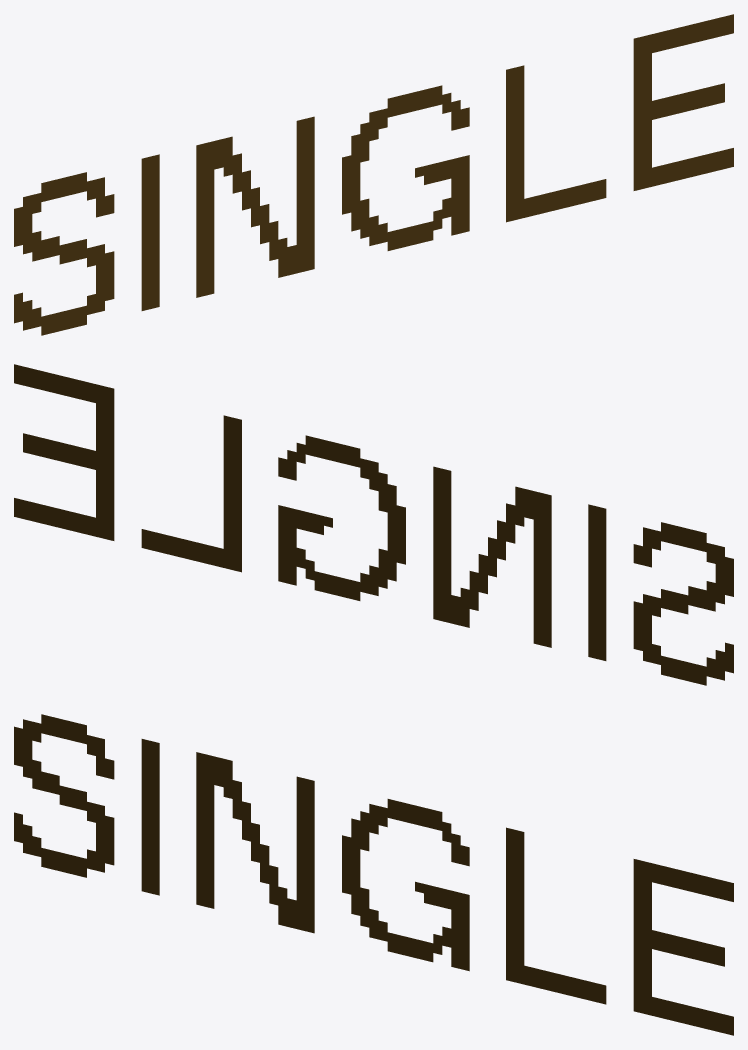
Rendered from result_single.obj.
The picture shows the model from 3 angles, top to bottom: view 1: azimuth 30°, elevation 25°; view 2: azimuth 150°, elevation 25°; view 3: azimuth 330°, elevation 25°; orthographic projection.
Visible parts, largest first — view 1: board_text; view 2: board_text; view 3: board_text.
Part boxes in pixels (x1,y1,x2,y2): board_text: [14, 14, 733, 335]; board_text: [14, 364, 733, 685]; board_text: [14, 714, 733, 1035].
Bounding box in the file's own units: 4.64 × 0.94 × 0.
